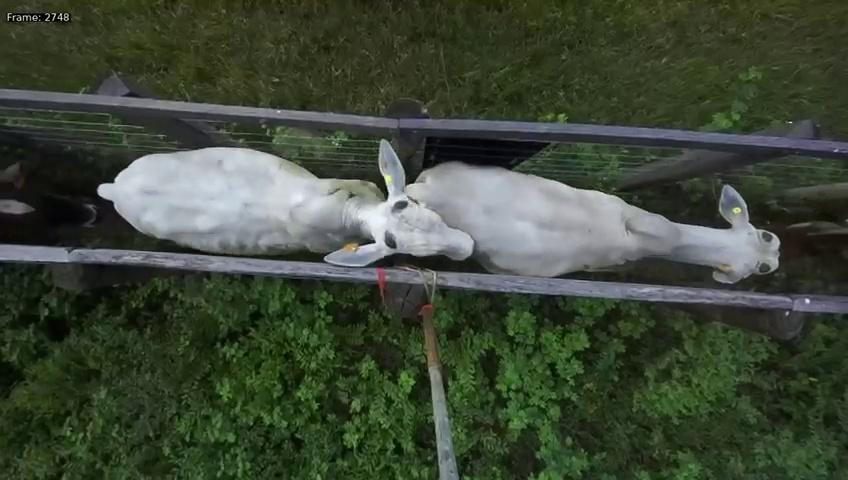cattle: (406, 155, 789, 291), (96, 137, 478, 269)
